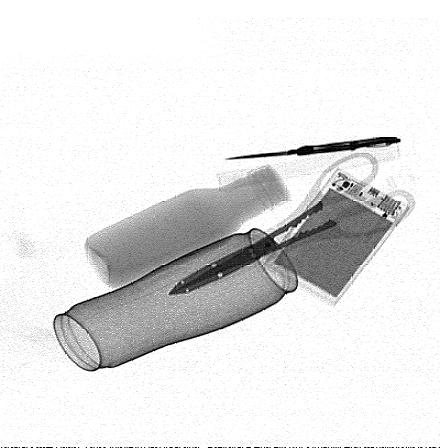Knife: (226, 134, 403, 163)
Powerbank: (258, 166, 414, 307)
Scissors: (167, 150, 417, 294)
